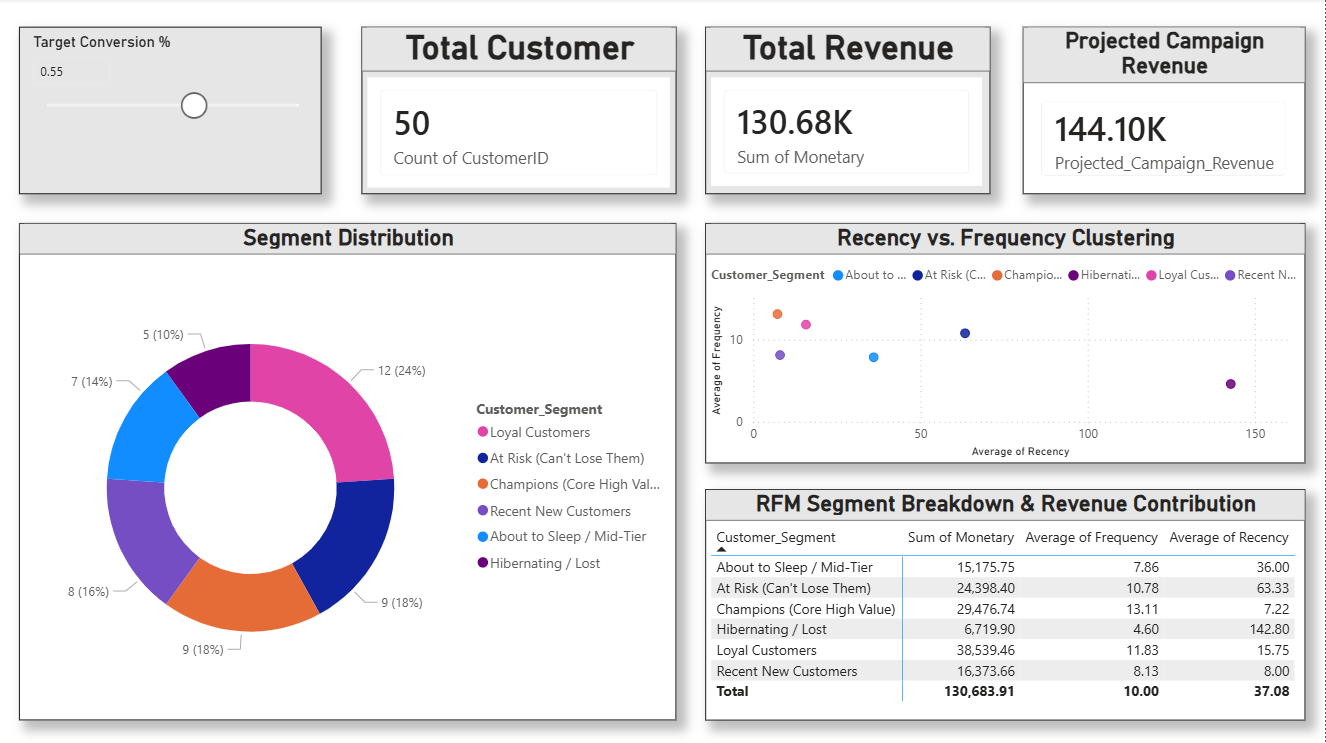

This screenshot's page, from the dashboard's own definition file:
{"tool":"powerbi","page":{"name":"Page 1","canvas":[1280,720],"ordinal":0},"visuals":[{"type":"cardVisual","title":"Total Customer","fields":{"Data":["Count(rfm_segmented_output.CustomerID)"]},"box":[349.9,27.7,304,161.7],"z":0},{"type":"cardVisual","title":"Total Revenue","fields":{"Data":["Sum(rfm_segmented_output.Monetary)"]},"box":[681.6,27.7,275.1,161.7],"z":1000},{"type":"donutChart","title":"Segment Distribution","fields":{"Category":["rfm_segmented_output.Customer_Segment"],"Y":["CountNonNull(rfm_segmented_output.CustomerID)"]},"box":[19.3,217.2,634.6,480.2],"z":2000},{"type":"scatterChart","title":"Recency vs.  Frequency Clustering","fields":{"X":["Avg(rfm_segmented_output.Recency)"],"Y":["Avg(rfm_segmented_output.Frequency)"],"Series":["rfm_segmented_output.Customer_Segment"]},"box":[681.6,217.2,579.1,231.6],"z":3000},{"type":"pivotTable","title":"RFM Segment Breakdown & Revenue Contribution","fields":{"Rows":["rfm_segmented_output.Customer_Segment"],"Values":["Sum(rfm_segmented_output.Monetary)","Avg(rfm_segmented_output.Frequency)","Avg(rfm_segmented_output.Recency)"]},"box":[681.6,474.1,579.1,223.2],"z":4000},{"type":"slicer","fields":{"Values":["Target Conversion %.Target Conversion %"]},"box":[19.3,27.7,292,161.7],"z":5000},{"type":"cardVisual","title":"Projected Campaign Revenue","fields":{"Data":["rfm_segmented_output.Projected_Campaign_Revenue"]},"box":[988.1,27.7,272.7,161.7],"z":6000}]}

Visuals, with their boxes in screenshot pixels (x1, y1, x2, y2), scaled from the page's 1280x720 canvas onto the 1326x743 screenshot:
"Total Customer" cardVisual: locate(362, 29, 677, 195)
"Total Revenue" cardVisual: locate(706, 29, 991, 195)
"Segment Distribution" donutChart: locate(20, 224, 677, 720)
"Recency vs.  Frequency Clustering" scatterChart: locate(706, 224, 1306, 463)
"RFM Segment Breakdown & Revenue Contribution" pivotTable: locate(706, 489, 1306, 720)
slicer - Target Conversion %.Target Conversion %: locate(20, 29, 322, 195)
"Projected Campaign Revenue" cardVisual: locate(1024, 29, 1306, 195)
